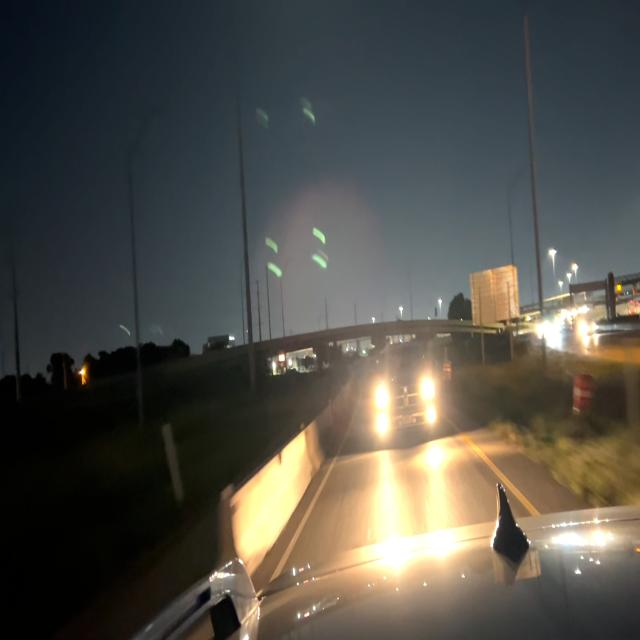back-of-sign: (472, 266, 522, 325)
